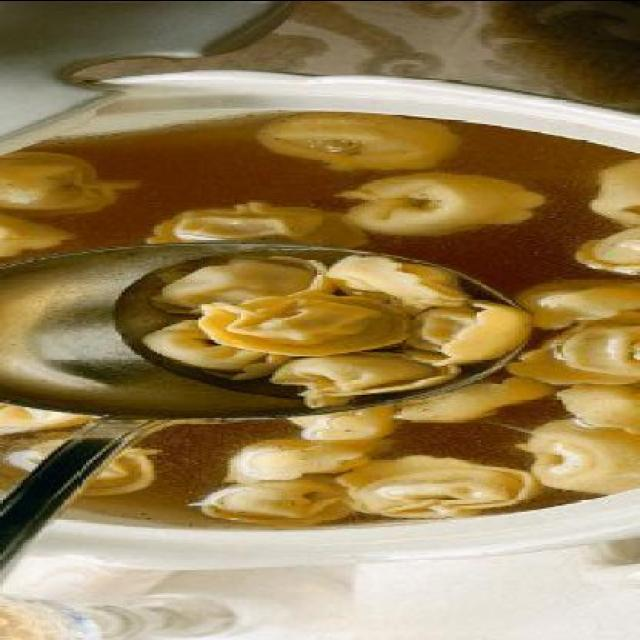Tortellini in broth: (131, 250, 515, 392)
